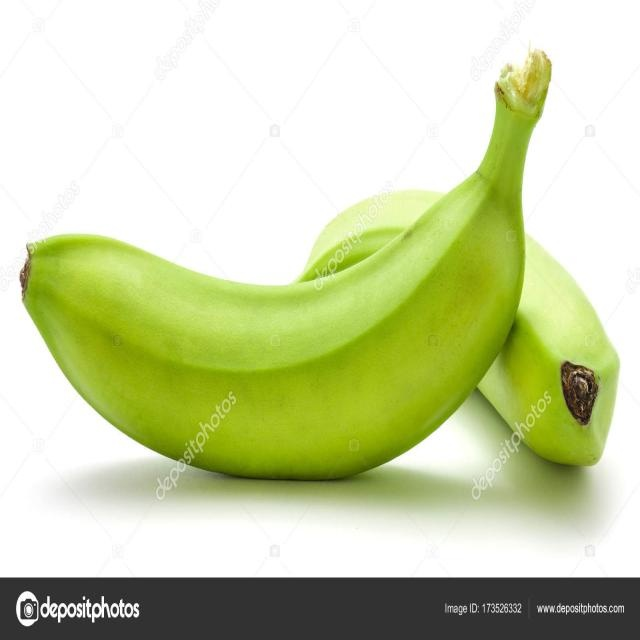agrume: (18, 49, 550, 482)
